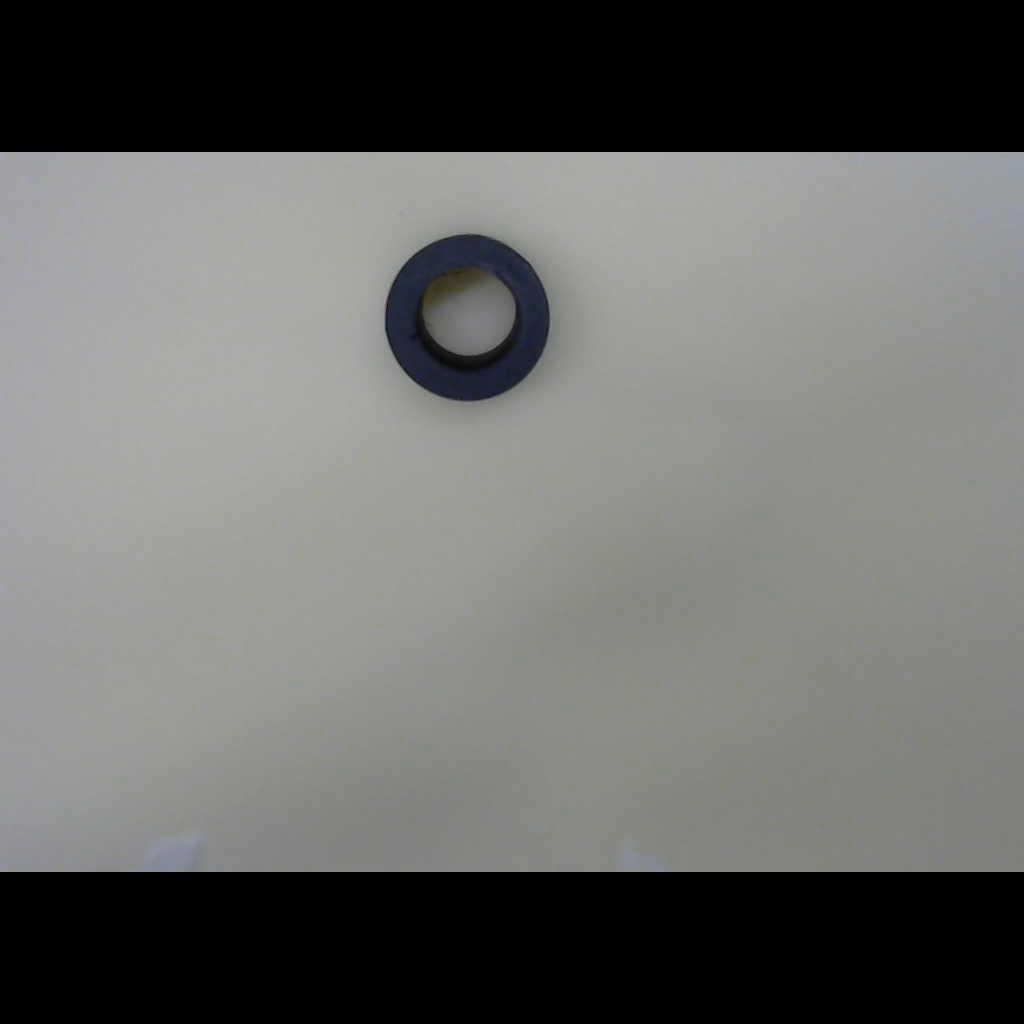ring: (383, 227, 558, 409)
